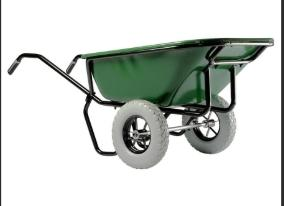BROUETTE: (0, 36, 282, 179)
